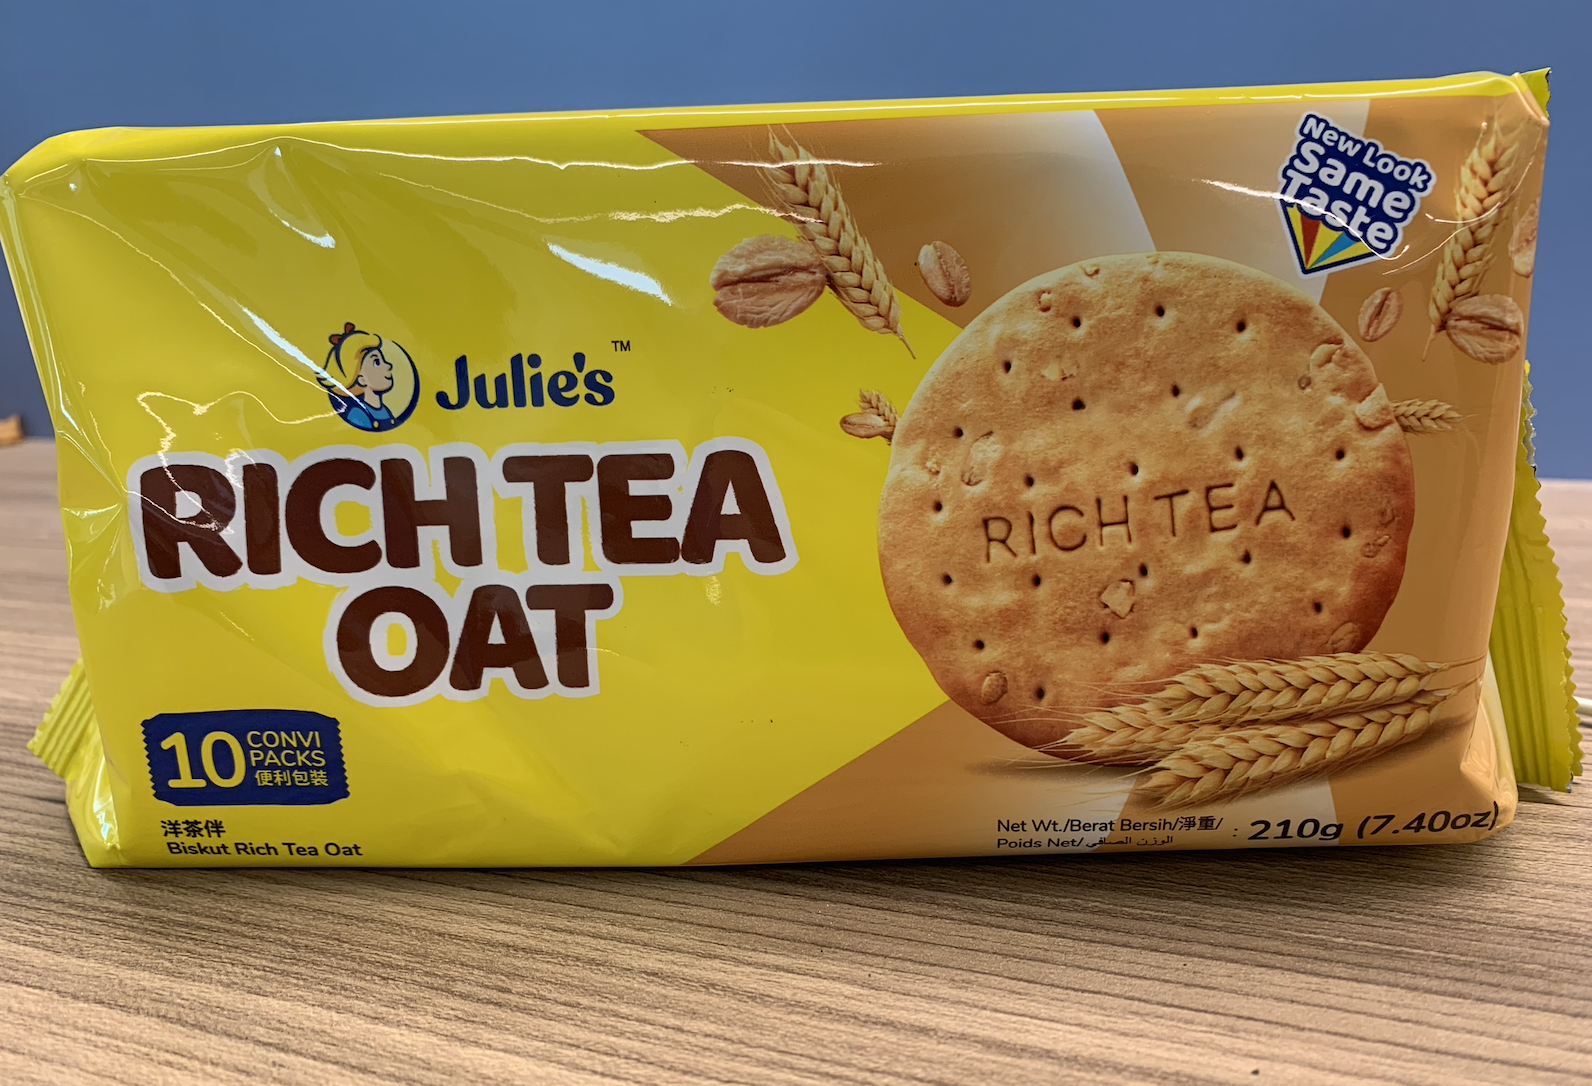cookies_150g: (114, 138, 1499, 838)
